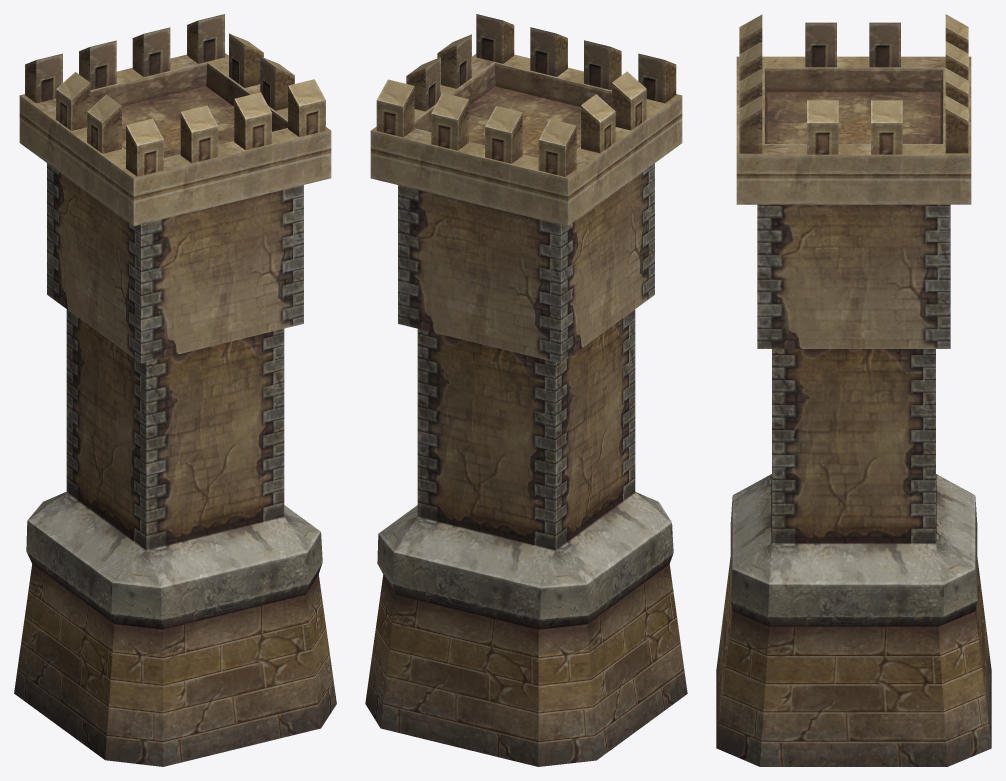
Rendered from SC_tamalagebi_04.FBX.
The picture shows the model from 3 angles, left to right: view 1: azimuth 30°, elevation 25°; view 2: azimuth 150°, elevation 25°; view 3: azimuth 270°, elevation 25°; orthographic projection. The views are drawn at different scales.
Visible parts, largest first — view 1: SC_tamalagebi_04; view 2: SC_tamalagebi_04; view 3: SC_tamalagebi_04.
Part boxes in pixels (x1=…): SC_tamalagebi_04: x1=14, y1=14, x2=336, y2=766; SC_tamalagebi_04: x1=365, y1=14, x2=687, y2=766; SC_tamalagebi_04: x1=716, y1=14, x2=991, y2=766.
Size of the model in its own units: 353 by 917 by 353.
